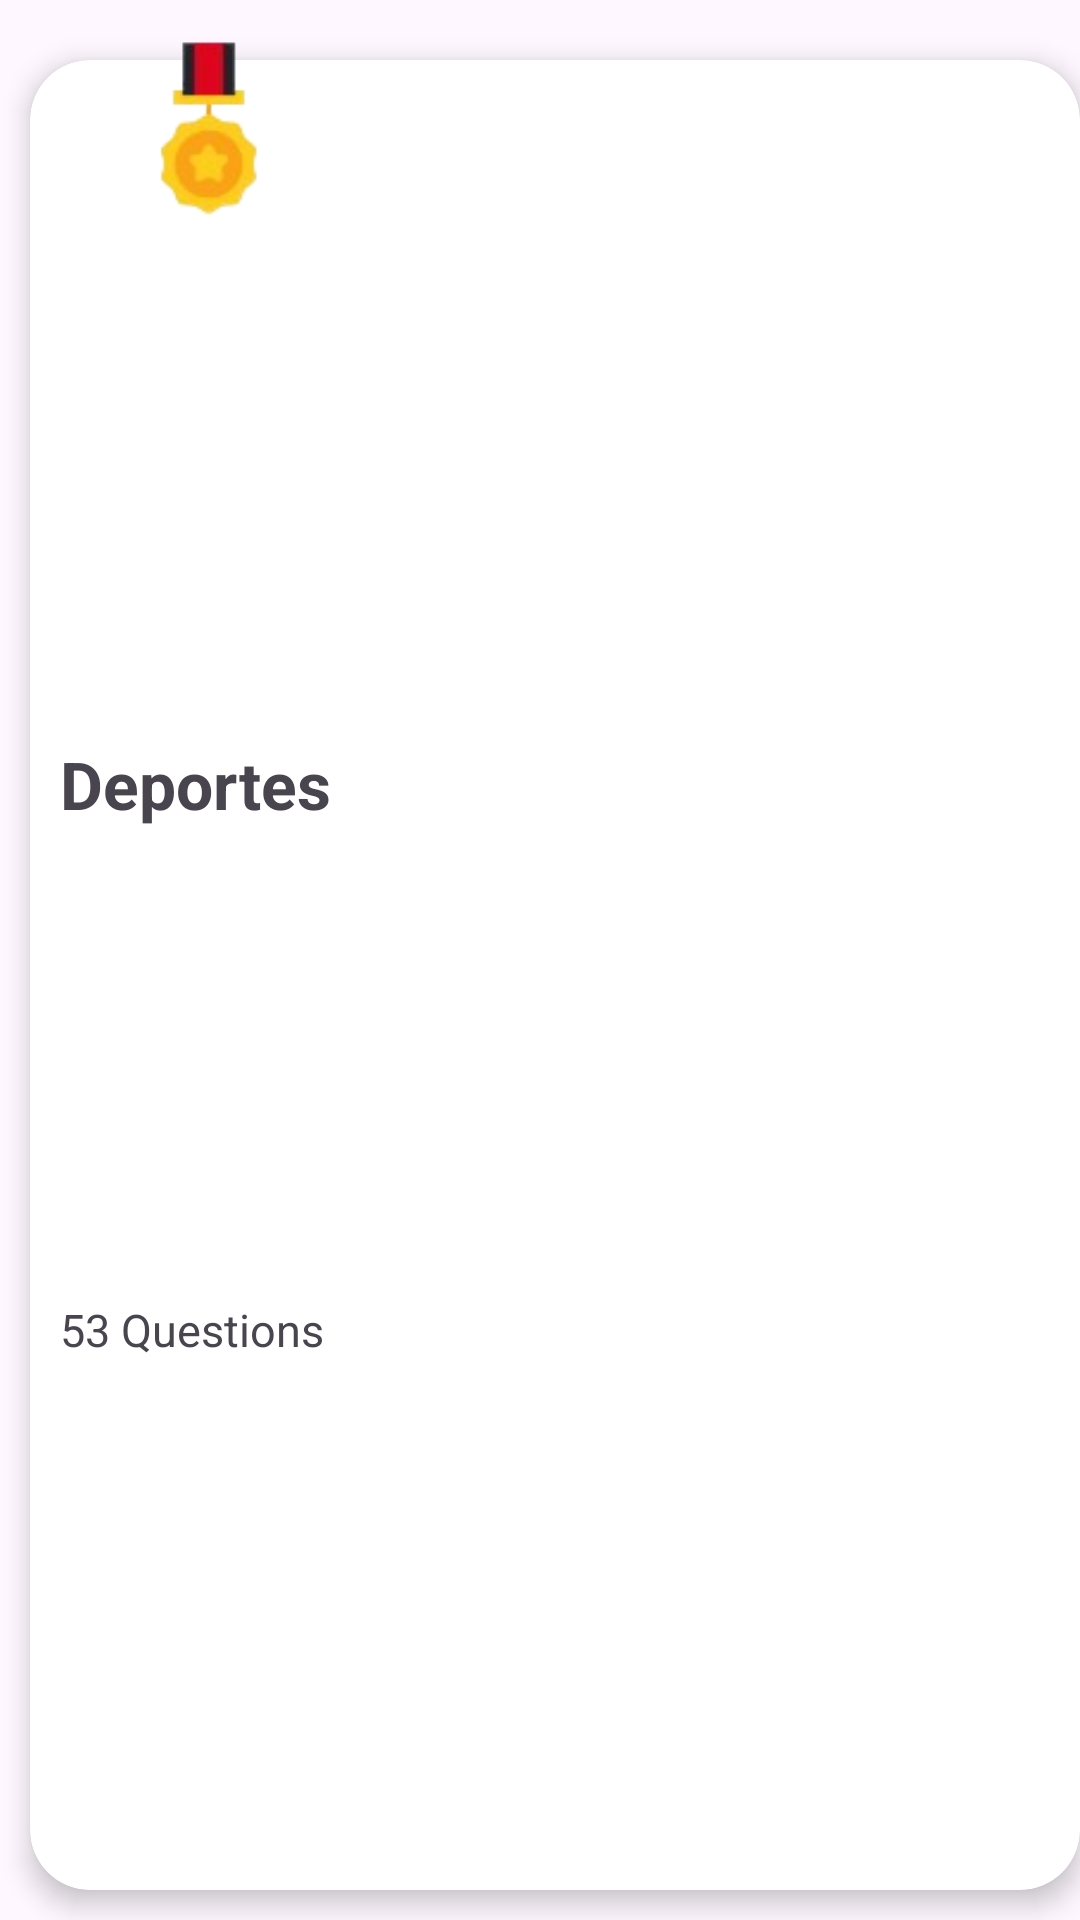

Screen size 1080px x 1920px. Icon name, then its center in pixels as (x=x, y=y):
medal: (x=210, y=128)
